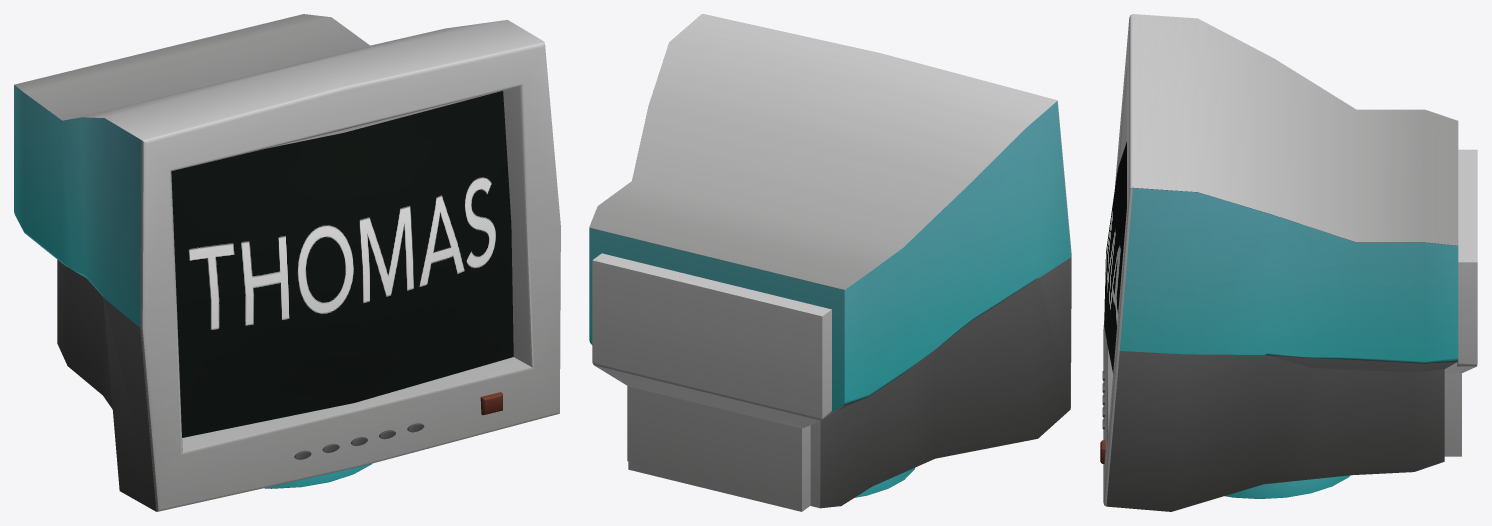
The model's file is crt-monitor.obj.
The picture shows the model from 3 angles, left to right: view 1: azimuth 30°, elevation 25°; view 2: azimuth 150°, elevation 25°; view 3: azimuth 270°, elevation 25°; orthographic projection. The views are drawn at different scales.
Visible parts, largest first — view 1: Mesh; view 2: Mesh; view 3: Mesh.
Part boxes in pixels (x1,y1,x2,y2): Mesh: (14,14,560,511); Mesh: (589,14,1071,511); Mesh: (1100,14,1477,511).
Bounding box in the file's own units: 0.5212 × 0.4818 × 0.4584.
Materials: 1 (1 with a texture image).
